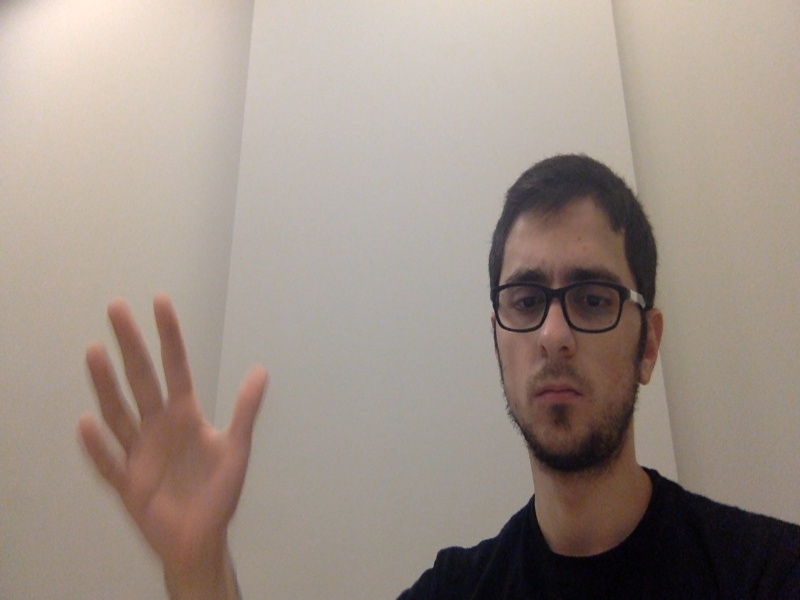5-hand: (77, 293, 267, 565)
